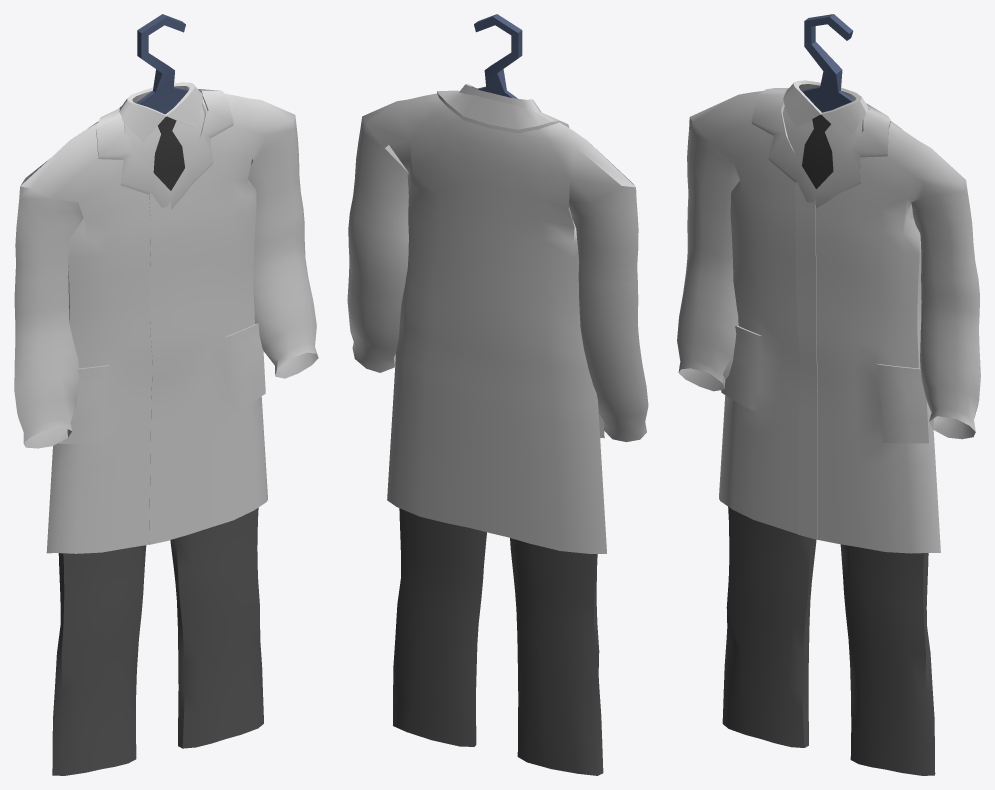
Rendered from costume_doctor.fbx.
3 views of the same model, side by side, from view 1: azimuth 30°, elevation 25°; view 2: azimuth 150°, elevation 25°; view 3: azimuth 330°, elevation 25° (orthographic).
Parts seen in each view (by area): view 1: costume_doctor; view 2: costume_doctor; view 3: costume_doctor.
Boxes of the visible parts, x1=… form: costume_doctor: x1=14, y1=14, x2=318, y2=775; costume_doctor: x1=347, y1=14, x2=648, y2=775; costume_doctor: x1=677, y1=14, x2=980, y2=775.
Bounding box in the file's own units: 1.41 × 3.3 × 0.1926.
